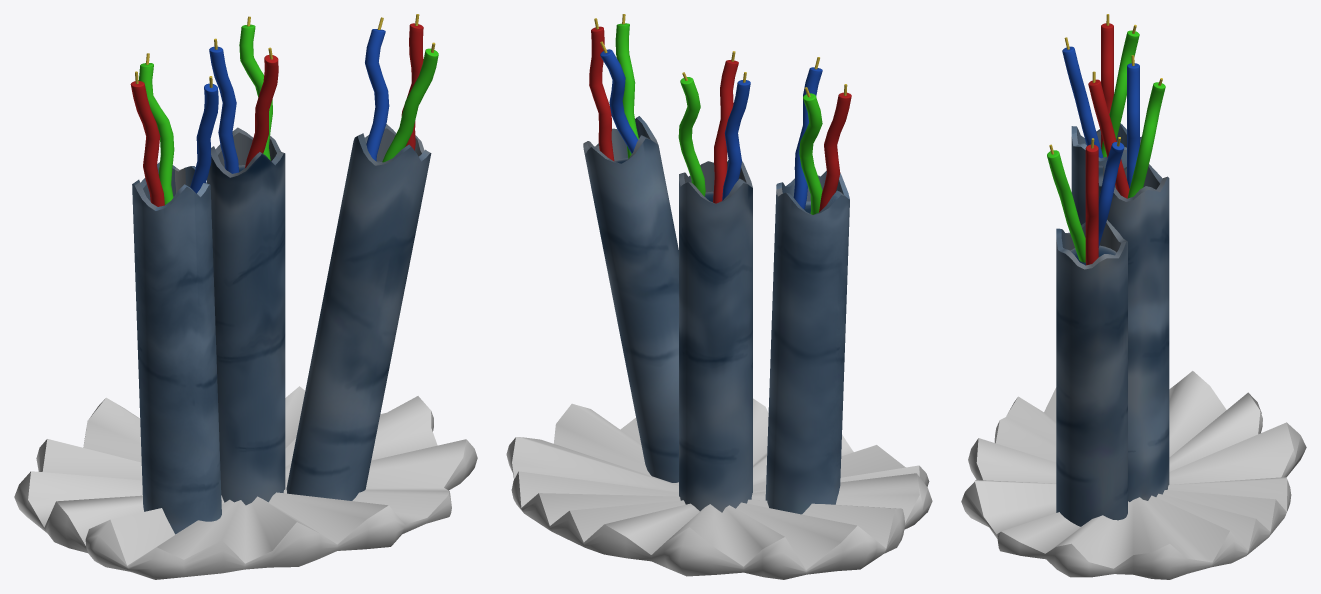
The model's file is Tubes.fbx.
3 renders of one model, left to right at view 1: azimuth 30°, elevation 25°; view 2: azimuth 150°, elevation 25°; view 3: azimuth 270°, elevation 25°, orthographic. The views are drawn at different scales.
Visible parts, largest first — view 1: Tubes; view 2: Tubes; view 3: Tubes.
Boxes of the visible parts, x1,y1,x2,y2 form: Tubes: (14,14,477,579); Tubes: (506,14,932,579); Tubes: (961,14,1306,579).
Bounding box in the file's own units: 25.73 × 28.7 × 21.16.
